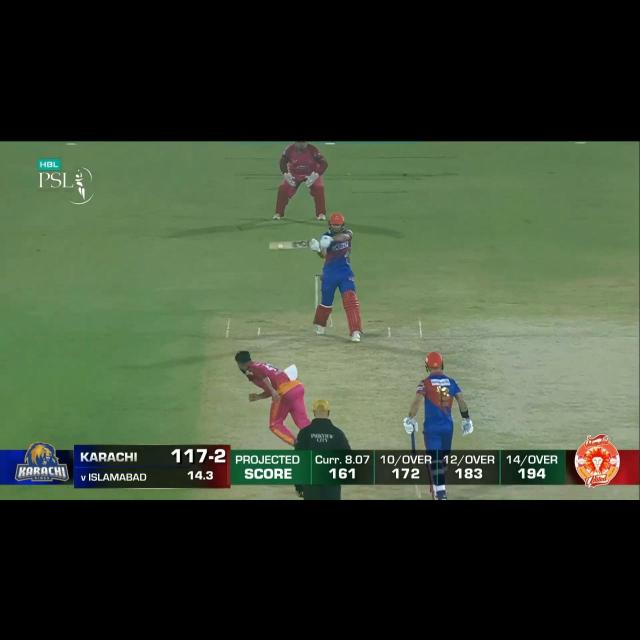bat: (270, 238, 311, 251)
toe: (413, 482, 424, 500), (268, 241, 278, 252)
